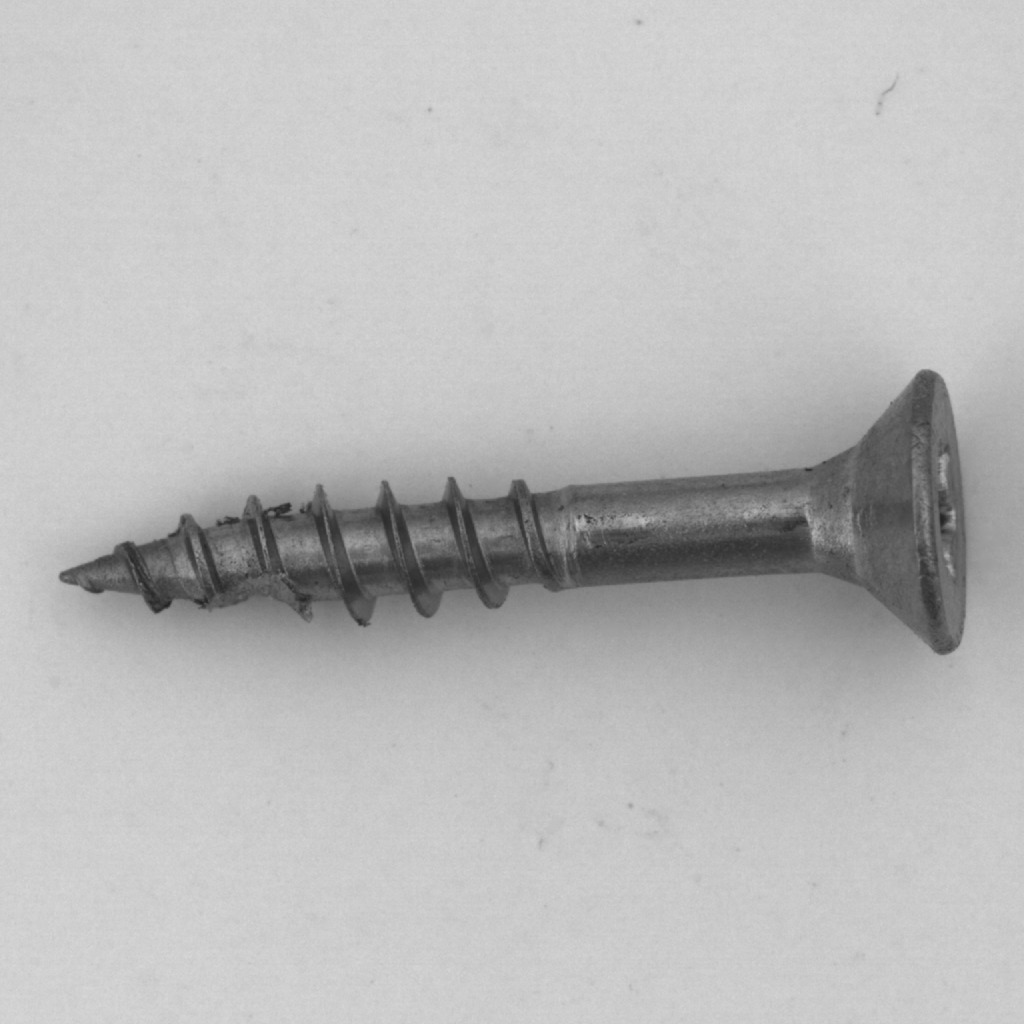thread_side: (156, 462, 377, 683)
